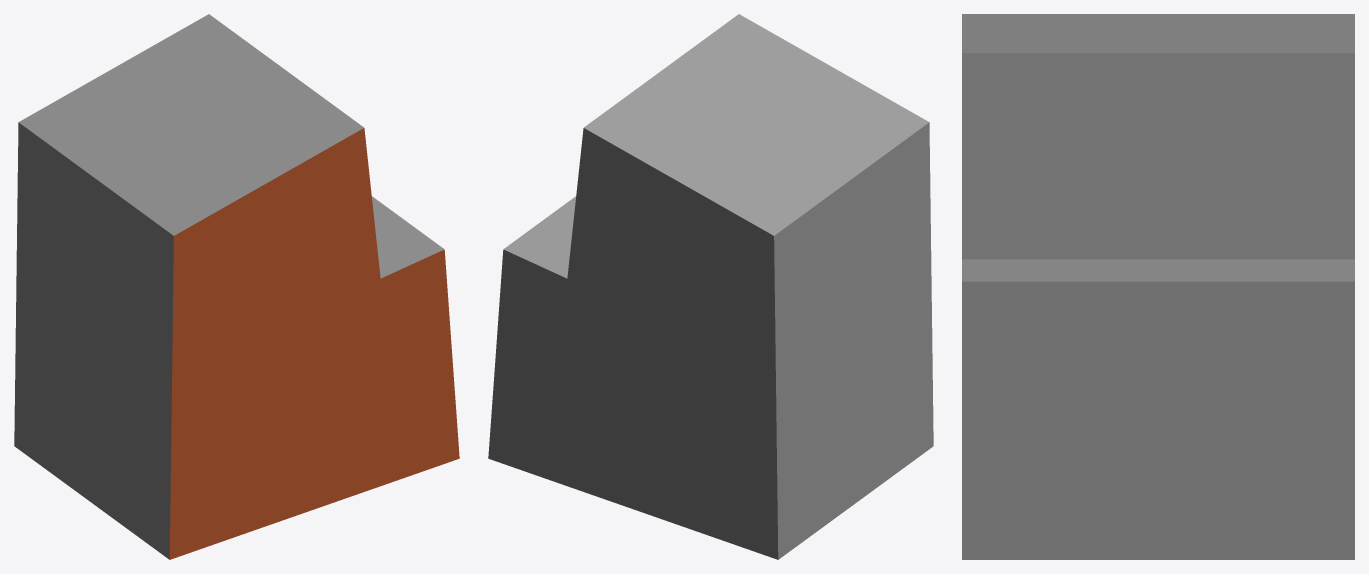
Rendered from construction_7126_assumed_A_Ruinas_h6m.obj.
The picture shows the model from 3 angles, left to right: view 1: azimuth 30°, elevation 25°; view 2: azimuth 150°, elevation 25°; view 3: azimuth 270°, elevation 25°; orthographic projection. The views are drawn at different scales.
Parts seen in each view (by area): view 1: construction_7126_assumed_A_Ruinas; view 2: construction_7126_assumed_A_Ruinas; view 3: construction_7126_assumed_A_Ruinas.
Part boxes in pixels (left/top/right/bottom): construction_7126_assumed_A_Ruinas: left=14, top=14, right=459, bottom=559; construction_7126_assumed_A_Ruinas: left=488, top=14, right=933, bottom=559; construction_7126_assumed_A_Ruinas: left=962, top=14, right=1354, bottom=559.
Size of the model in its own units: 6.46 by 8.19 by 6.
